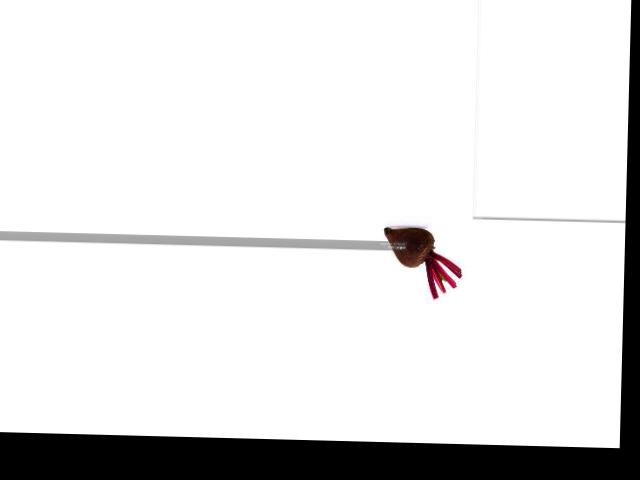beet: (381, 226, 462, 299)
